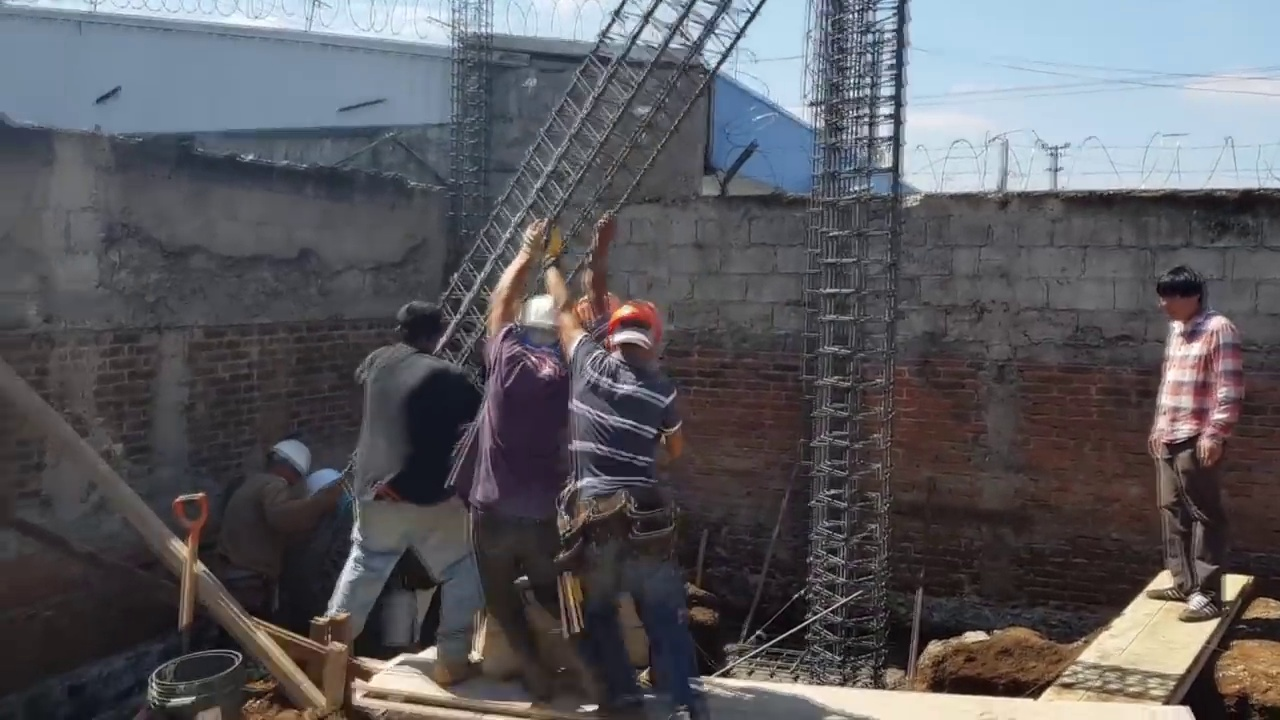helmet: (606, 297, 665, 342), (513, 286, 564, 334), (271, 437, 313, 475)
helmet-off: (1161, 267, 1215, 327), (391, 297, 440, 350)
helmet-on: (606, 300, 665, 369), (512, 289, 565, 359), (270, 439, 314, 489)
person: (550, 234, 692, 657), (332, 295, 473, 680), (462, 244, 571, 679), (1148, 265, 1248, 632), (225, 430, 337, 621)
